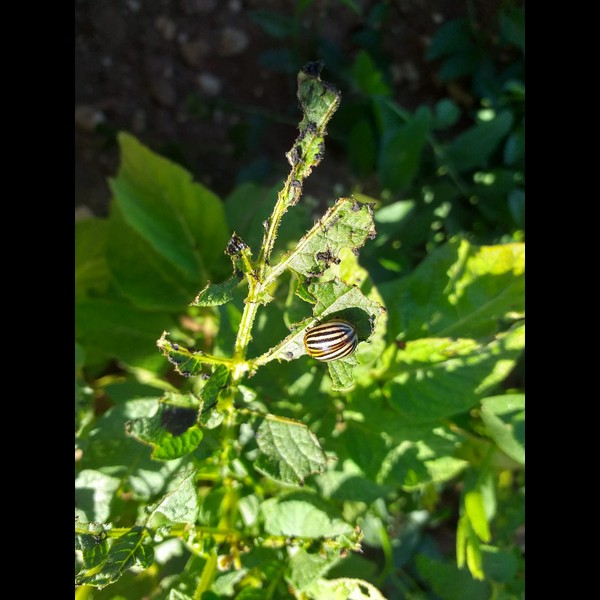hrosc: (303, 314, 358, 365)
